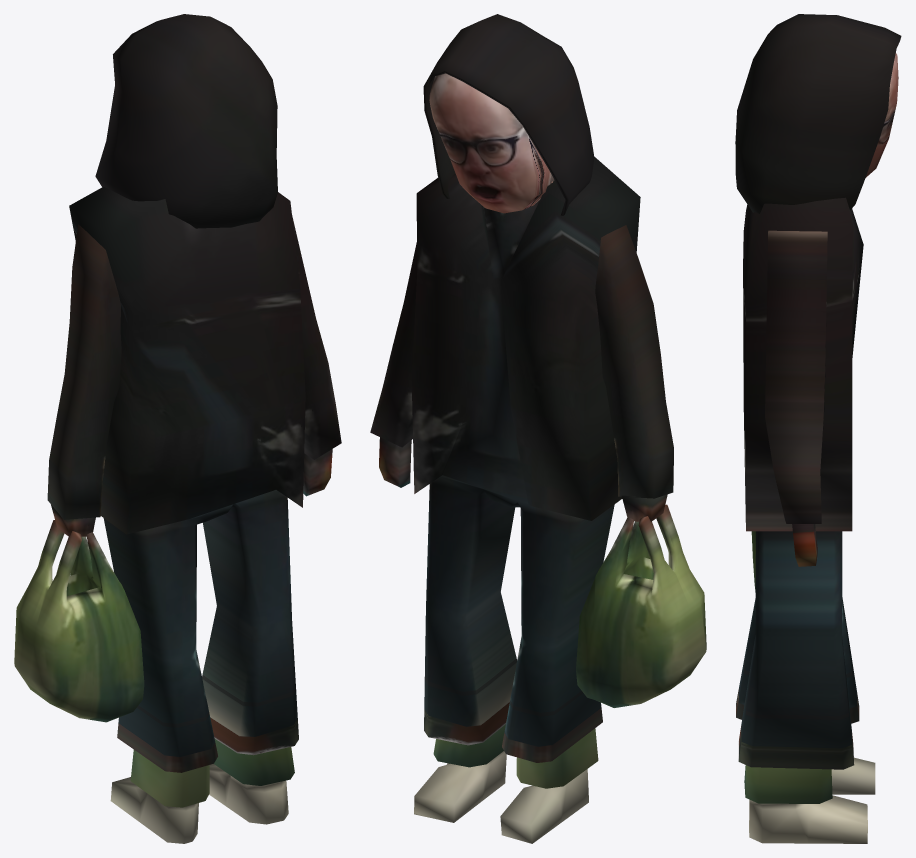
Rendered from character_2.glb.
3 renders of one model, left to right at view 1: azimuth 30°, elevation 25°; view 2: azimuth 150°, elevation 25°; view 3: azimuth 270°, elevation 25°, orthographic.
Visible parts, largest first — view 1: Char 2; view 2: Char 2; view 3: Char 2.
Part boxes in pixels (x1=…): Char 2: x1=14, y1=14, x2=341, y2=843; Char 2: x1=370, y1=14, x2=706, y2=843; Char 2: x1=735, y1=14, x2=901, y2=843.
Bounding box in the file's own units: 0.6961 × 1.67 × 0.3159.
1 material, 1 textured.
